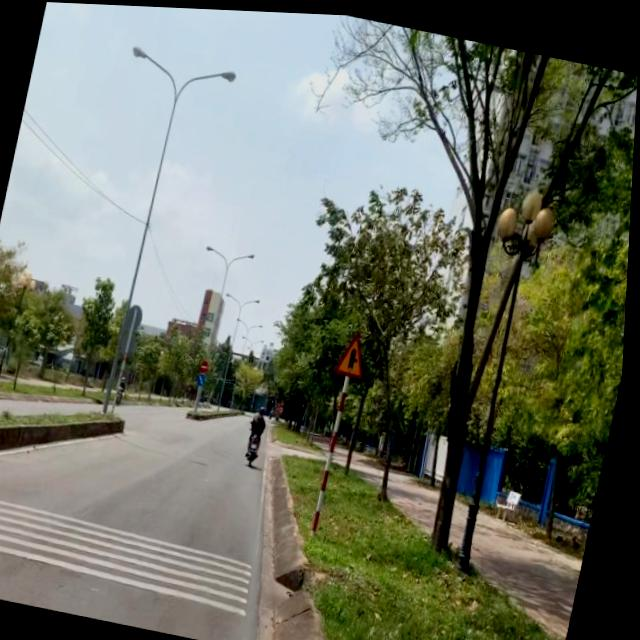Cam di nguoc chieu: (204, 358, 213, 372)
Giao nhau voi duong khong uu tien ben phai: (337, 327, 378, 380), (283, 394, 291, 404)
Toc do toi da cho phep: (281, 403, 288, 412)
Vong chuong ngai vat sang phai: (201, 371, 210, 385)
